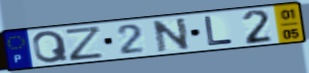2: (240, 9, 275, 46), (117, 23, 148, 56)
L: (203, 15, 236, 48)
N: (150, 16, 192, 54)
Q: (31, 29, 71, 65)
Z: (63, 25, 106, 63)
